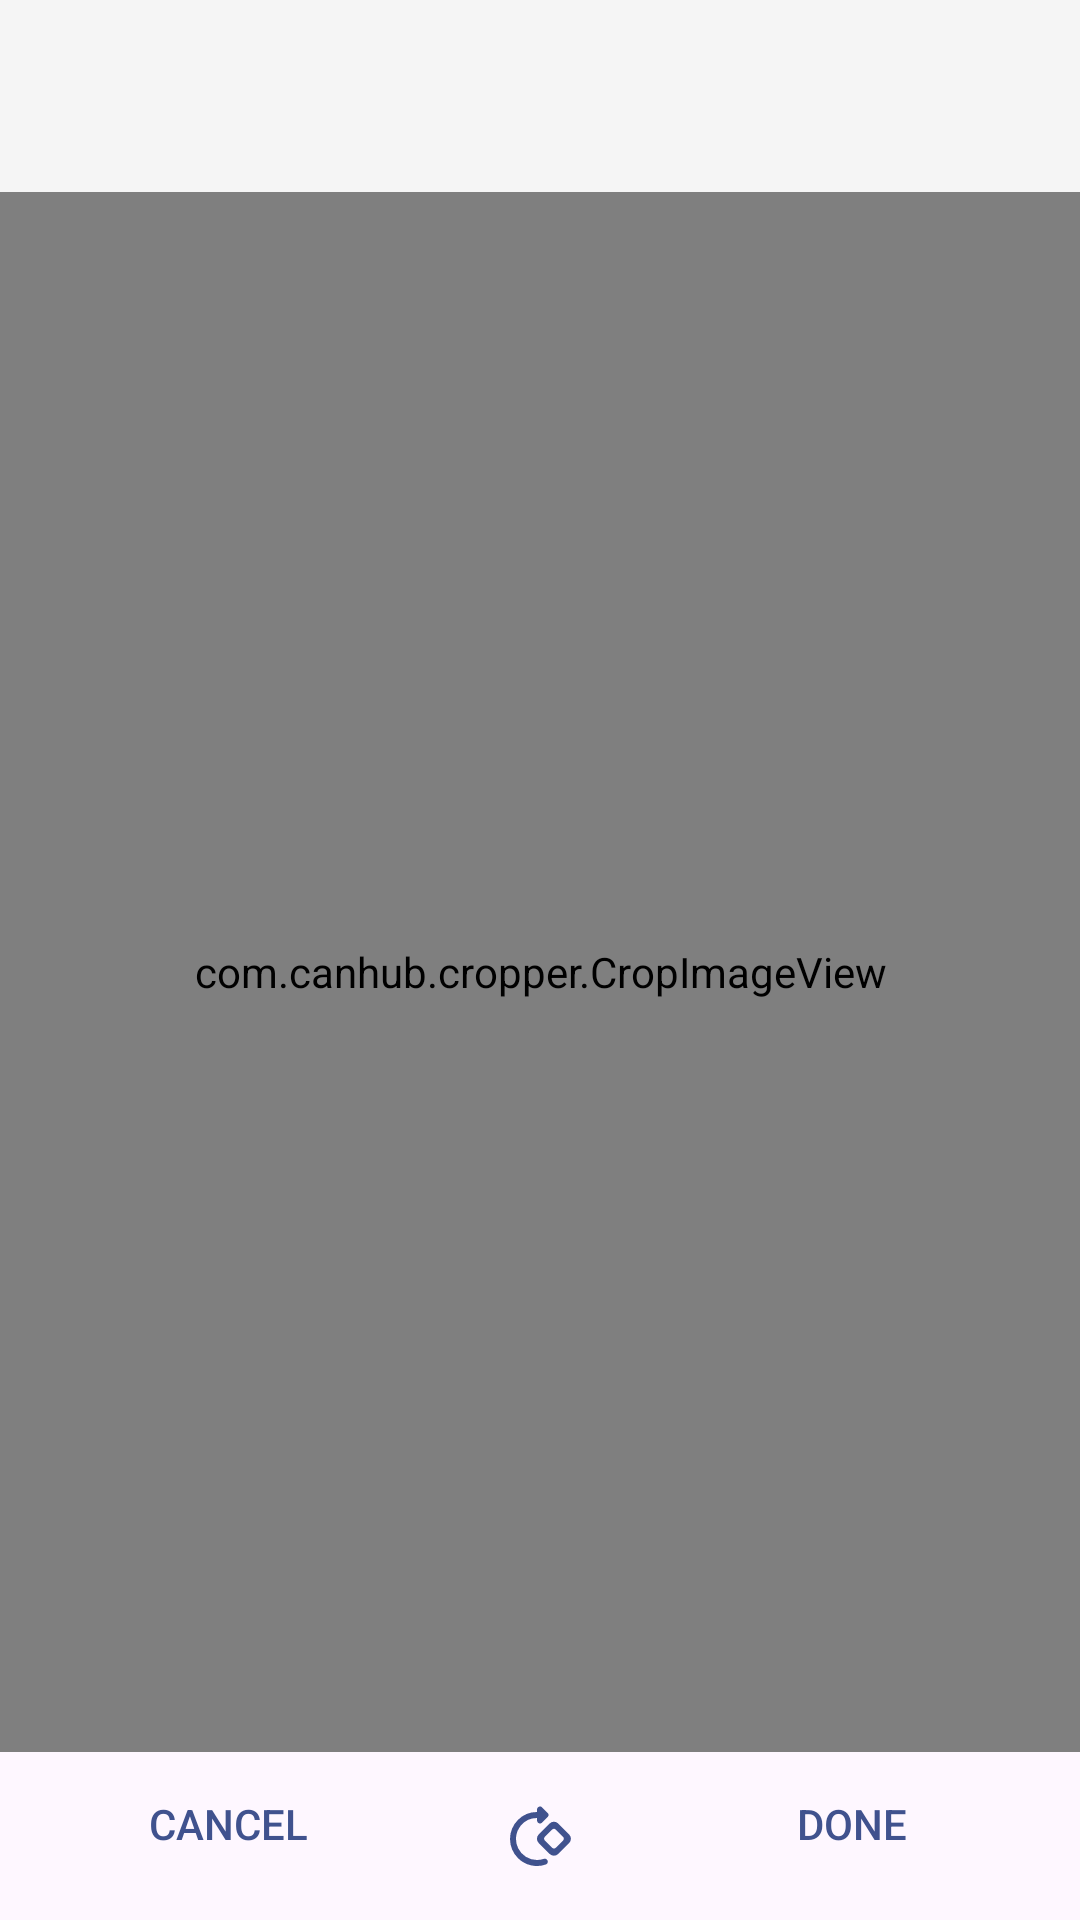

Where to tap for icons on this 1080w x 1920h app screen, as (x,y):
rotate degrees: (540,1836)
